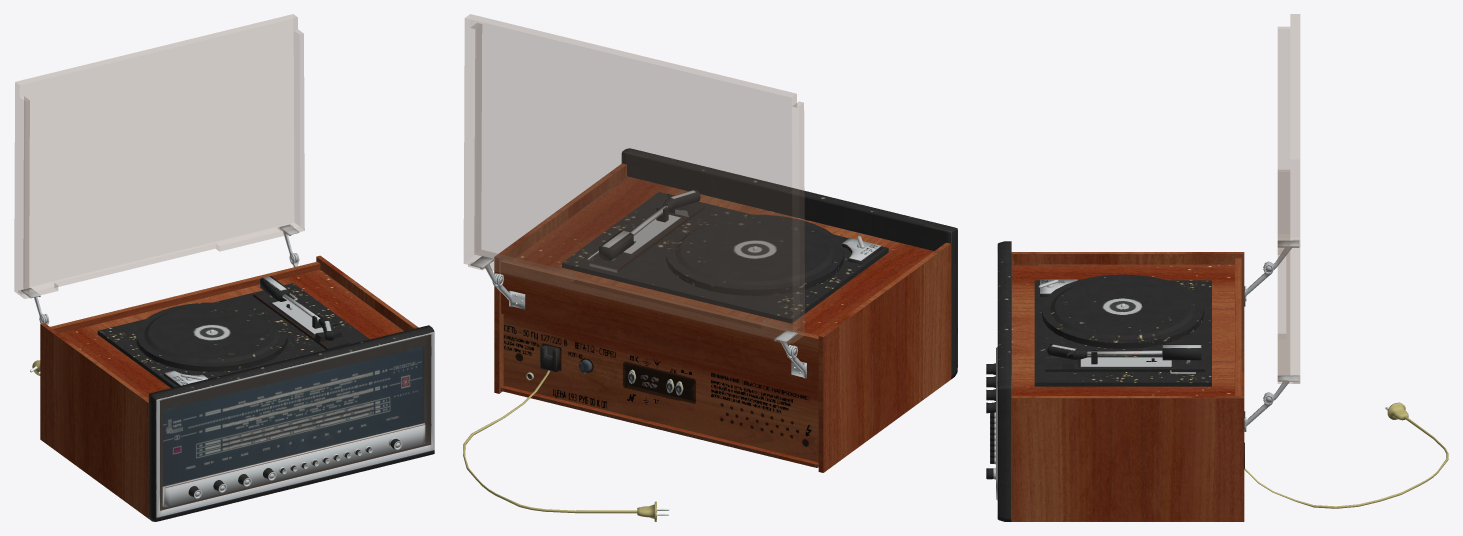
File: radiogram_withsound.glb
3 renders of one model, left to right at view 1: azimuth 30°, elevation 25°; view 2: azimuth 150°, elevation 25°; view 3: azimuth 270°, elevation 25°, orthographic. The views are drawn at different scales.
Visible parts, largest first — view 1: Cube.001, Cube.026, Cube.025, Cube.008, Cube.005, Circle, Cube.004, Cube.009, Cube.006, Cube.000, Circle.001, Cube.014; view 2: Cube.001, Cube.005, Cube.003, Cube.006, Circle, Cube.004, Cube.008, Cube.009, Cube.007, Cylinder.002, Cube.000, Cube.013 (+3 smaller); view 3: Cube.005, Cube.004, Circle, Cube.001, Cube.009, Cube.008, Cube.000, Cylinder.002, Cube.006, Cube.010, Cube.014, Cube.013.
Part boxes in pixels (<box>): Cube.001: <box>14,14,304,298</box>; Cube.026: <box>160,335,430,509</box>; Cube.025: <box>163,346,424,486</box>; Cube.008: <box>148,325,434,521</box>; Cube.005: <box>40,255,418,518</box>; Circle: <box>136,302,287,371</box>; Cube.004: <box>59,270,403,398</box>; Cube.009: <box>97,283,369,387</box>; Cube.006: <box>50,261,320,333</box>; Cube.000: <box>253,291,350,349</box>; Circle.001: <box>188,468,276,499</box>; Cube.014: <box>21,224,299,323</box>; Cube.001: <box>464,14,804,344</box>; Cube.005: <box>494,163,950,472</box>; Cube.003: <box>503,314,818,462</box>; Cube.006: <box>501,259,818,390</box>; Circle: <box>666,214,843,295</box>; Cube.004: <box>512,176,933,335</box>; Cube.008: <box>621,148,957,379</box>; Cube.009: <box>562,192,888,323</box>; Cube.007: <box>500,385,818,467</box>; Cylinder.002: <box>463,294,800,521</box>; Cube.000: <box>589,203,704,272</box>; Cube.013: <box>492,273,806,378</box>; Cube.005: <box>1011,252,1244,521</box>; Cube.004: <box>1011,264,1234,395</box>; Circle: <box>1041,274,1204,348</box>; Cube.001: <box>1277,14,1300,383</box>; Cube.009: <box>1034,280,1211,386</box>; Cube.008: <box>996,241,1011,521</box>; Cube.000: <box>1045,357,1204,371</box>; Cylinder.002: <box>1244,290,1448,508</box>; Cube.006: <box>1235,258,1241,395</box>; Cube.010: <box>1162,344,1201,360</box>; Cube.014: <box>1263,240,1298,402</box>; Cube.013: <box>1244,261,1273,431</box>.
Bounding box in the file's own units: 53.09 × 62.23 × 70.81.
Materials: 3 (2 with a texture image).
